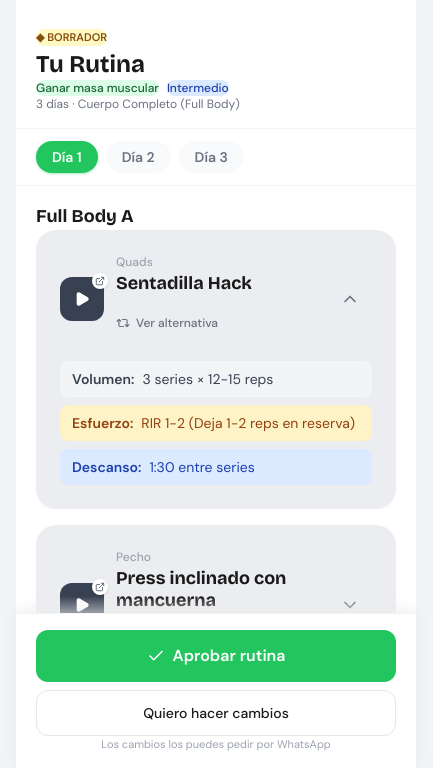
Scenario: DraftPreviewPage › Alternatives — BUG-4 (carousel shows "Reemplazaría a: <name>") › clicking "Ver alternativa" reveals the carousel header with the original exercise name
The image size is (433, 768).
expect the text "Sentadilla Hack" is shown: met, box [116,272,252,294]
Click the button "Ver alternativa" at (180, 322), box [108,300,252,344]
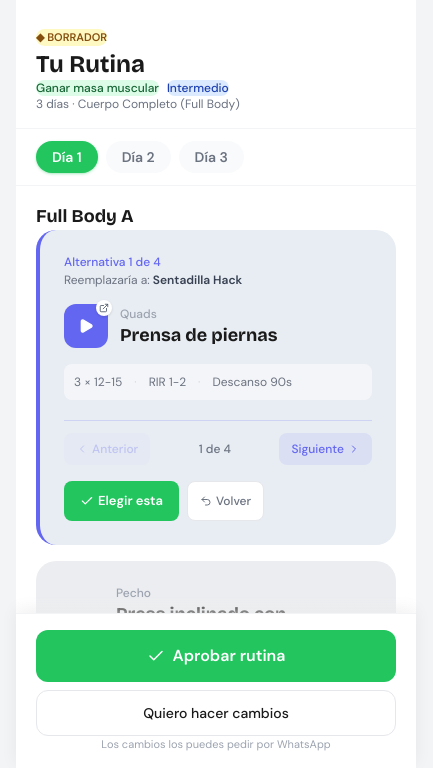
expect the text "Sentadilla Hack" is shown: met, box [153,272,242,288]
expect the text "Alternativa 1 de 4" is shown: met, box [64,254,161,270]
expect the text "Reemplazaría a: Sentadilla Hack" is shown: met, box [64,272,242,288]
